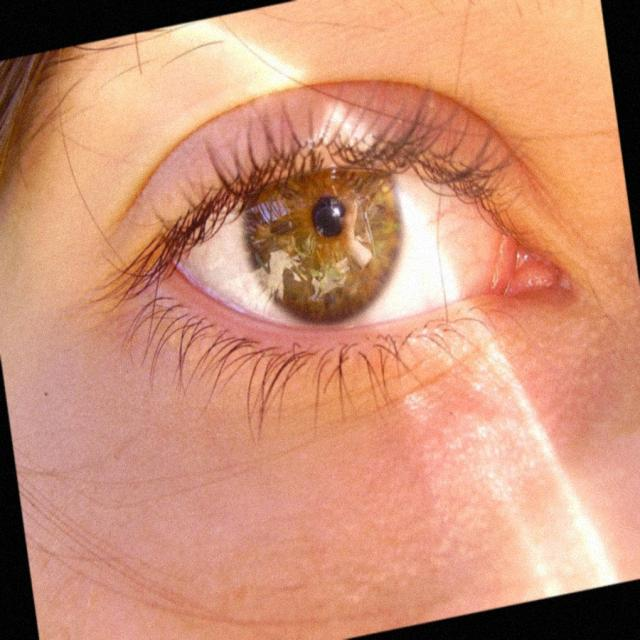Healthy-Eye: (104, 101, 563, 422)
